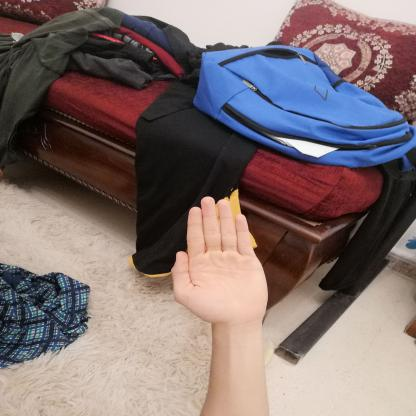SEEN: (160, 187, 276, 330)
